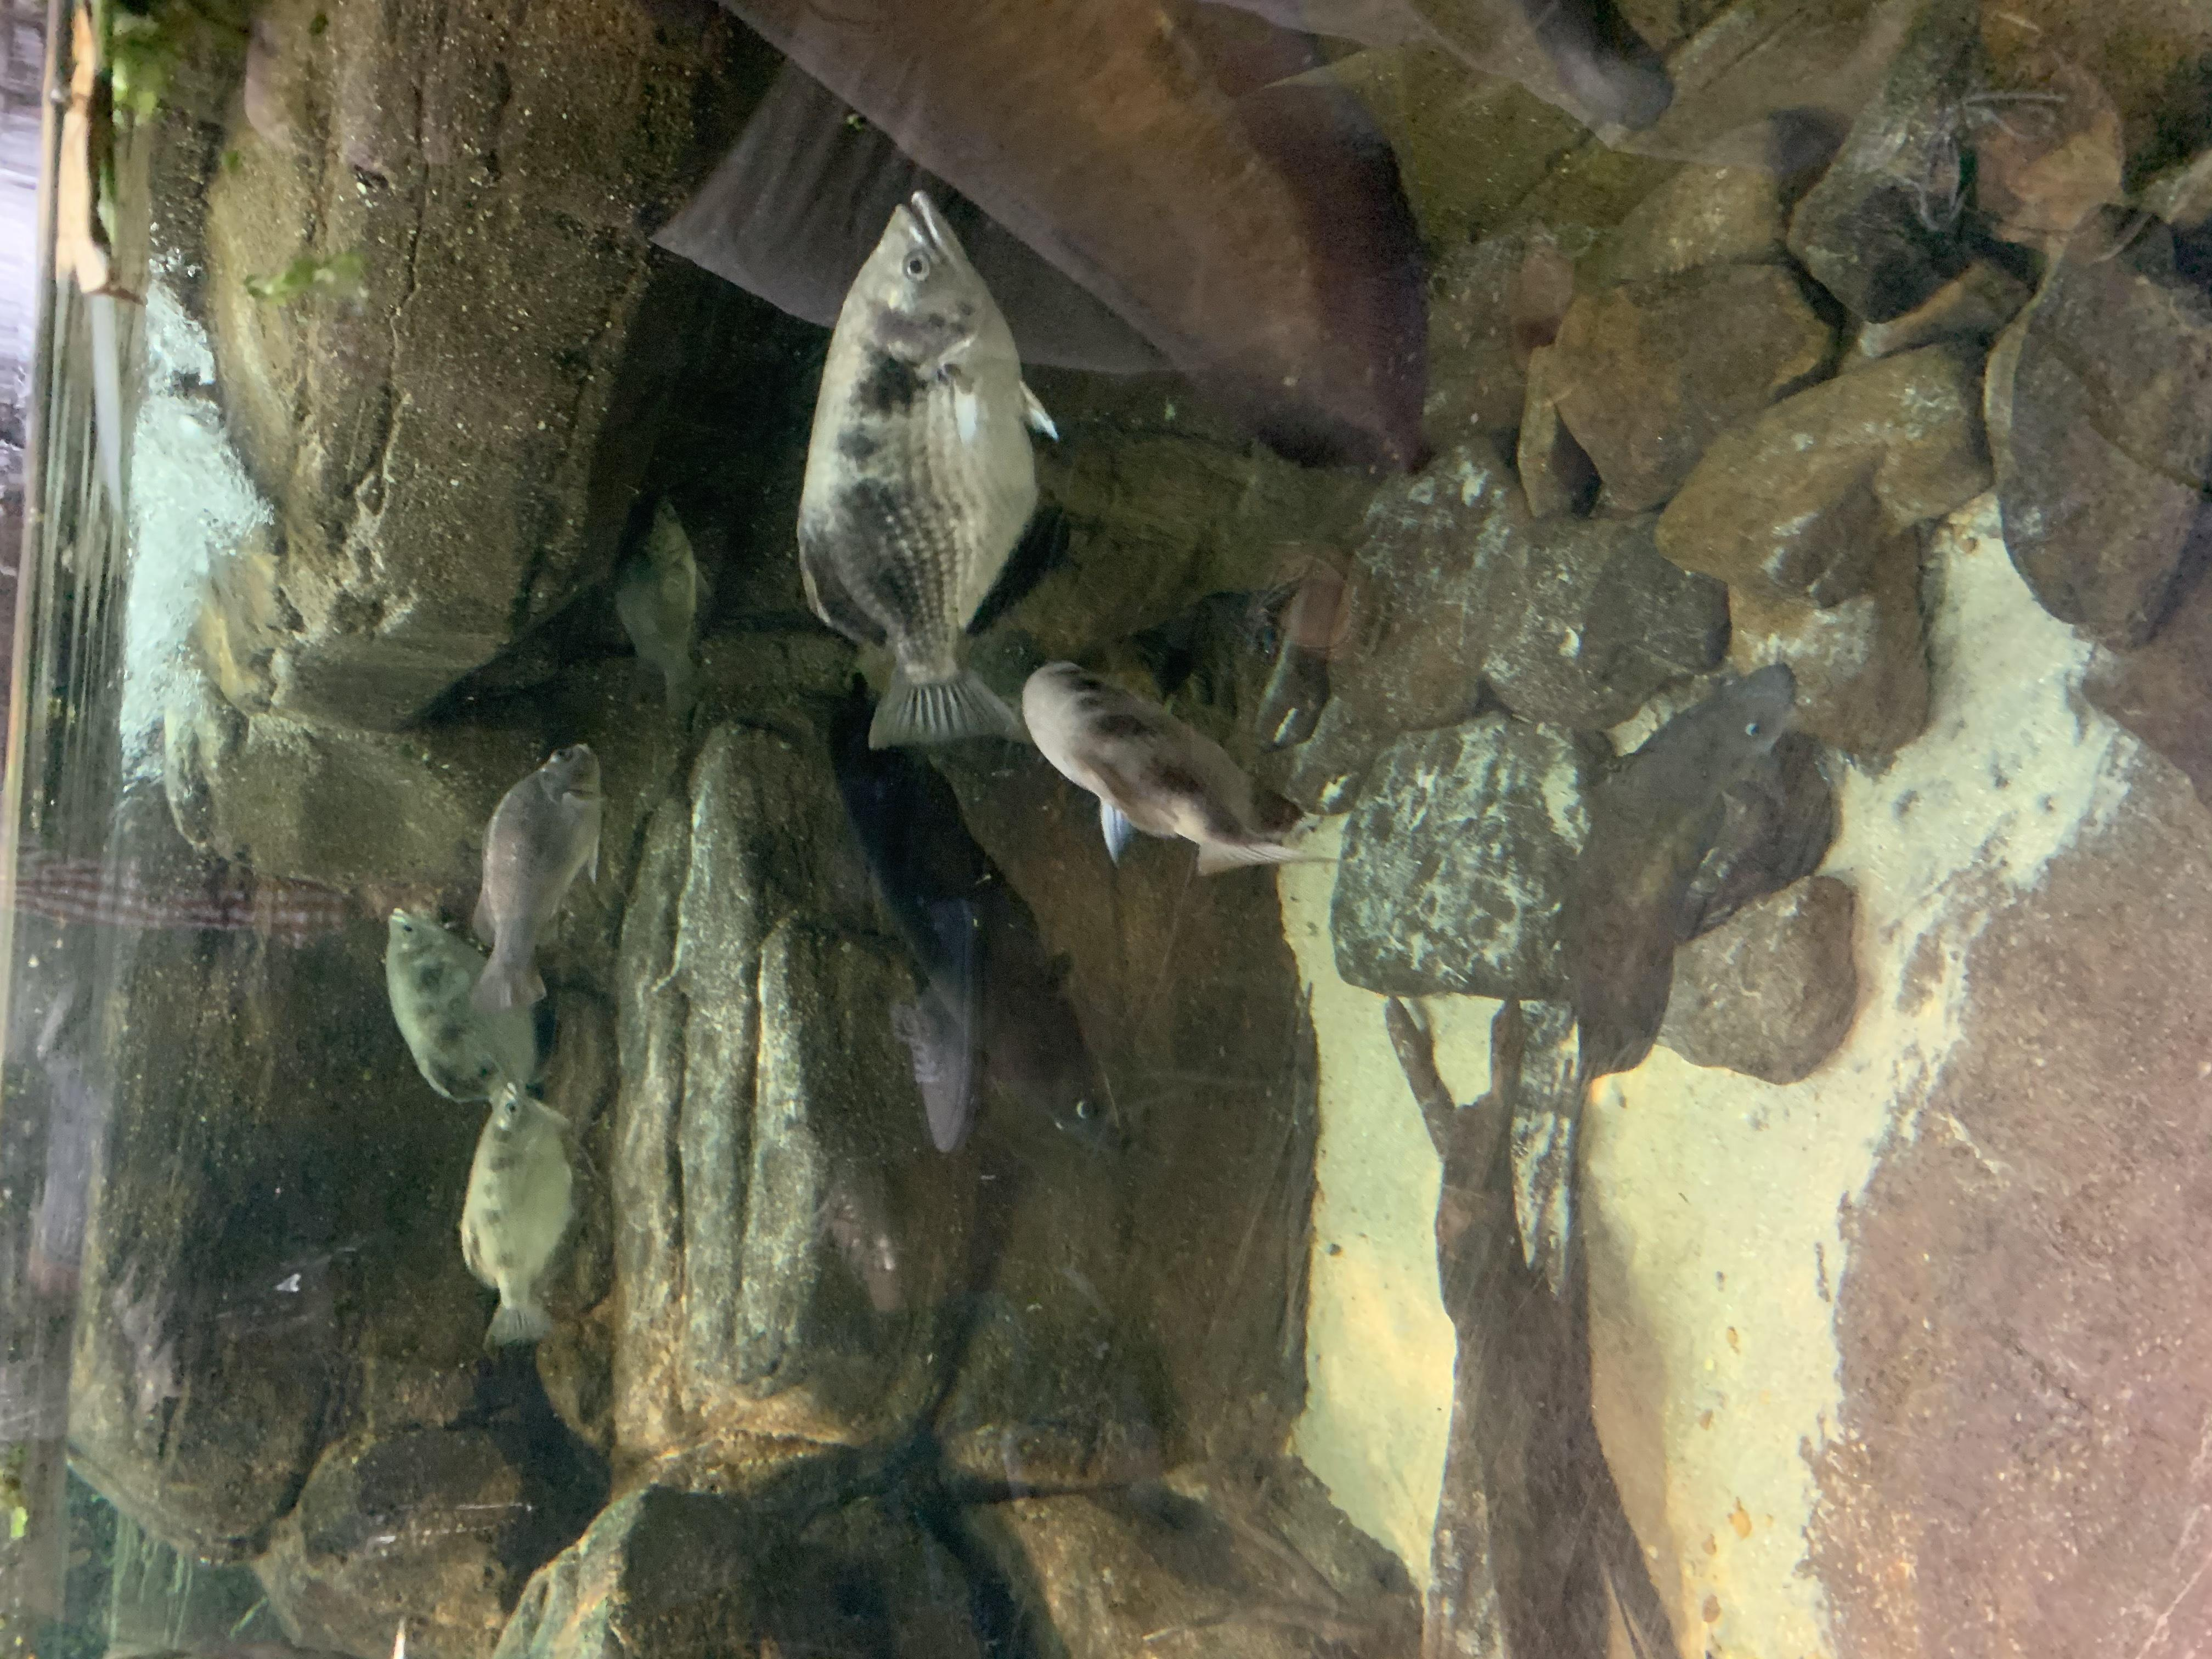fish: (803, 188, 1055, 758), (1536, 662, 1815, 1086), (1019, 650, 1341, 892), (458, 713, 613, 1006), (456, 1086, 596, 1351), (378, 889, 538, 1119)
